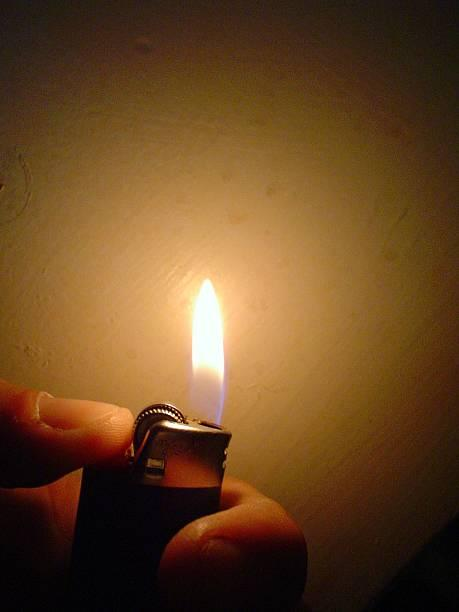Fire: (184, 277, 231, 427)
